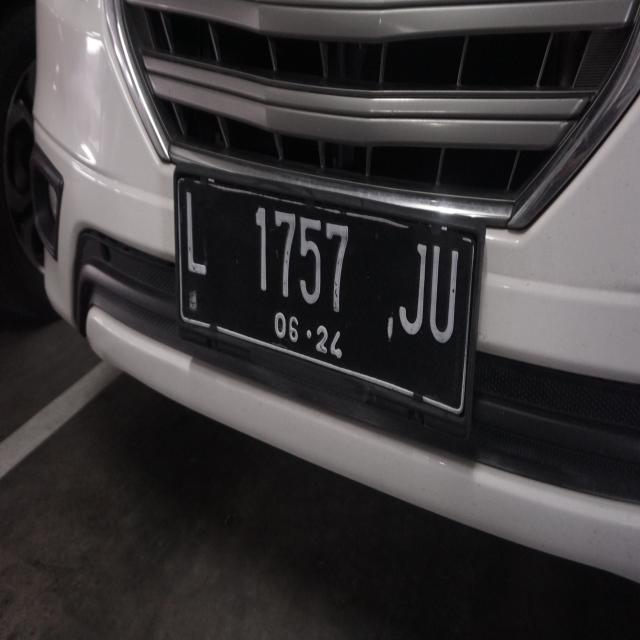1: (246, 195, 272, 305)
5: (296, 196, 324, 314)
7: (320, 200, 354, 316), (270, 200, 298, 302)
J: (396, 234, 426, 350)
L: (178, 184, 214, 282)
U: (428, 230, 461, 357)
